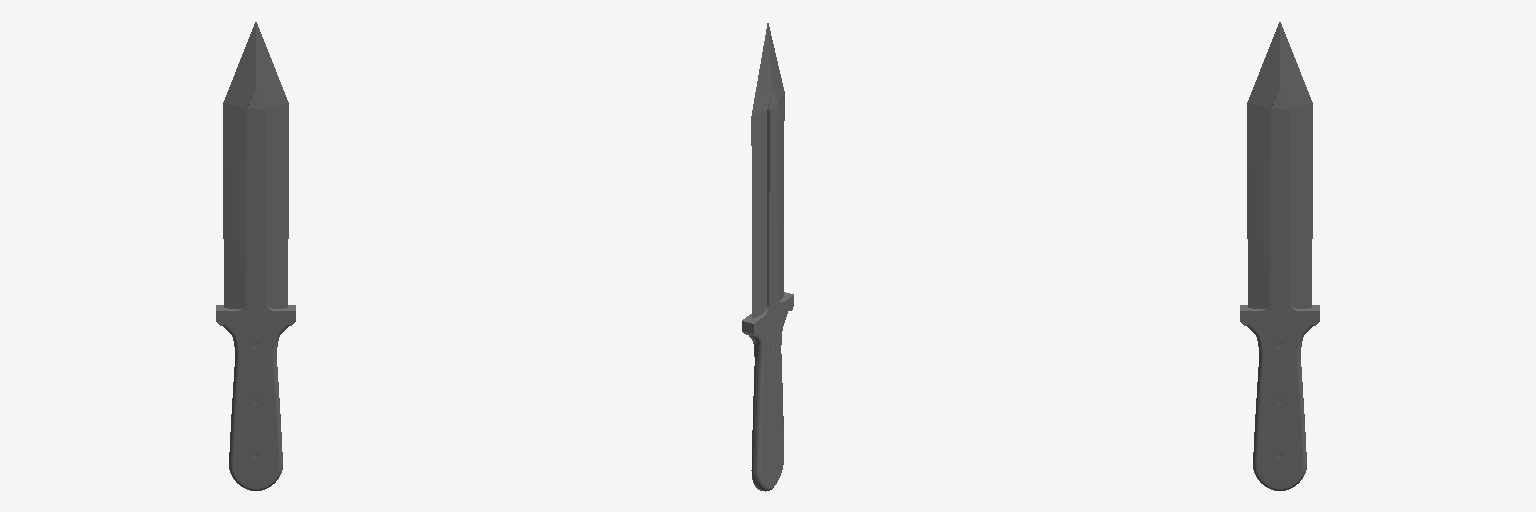
robot.urdf — object:
<?xml version="1.0"?>
<robot name="object">
  <link name="object">
    <visual>
      <origin xyz="0 0 0"/>
      <geometry>
        <mesh
          filename="../../mesh/oakink_virtual/knife_s123.stl" />
      </geometry>
      <material name="mat">
        <color rgba="0.5 0.5 0.5 1"/>
      </material>
    </visual>

    <collision>
      <origin xyz="0 0 0"/>
      <geometry>
        <mesh
          filename="../../mesh/oakink_virtual/knife_s123.stl" />
      </geometry>
    </collision>
  </link>
</robot>

--- Render facts (derived) ---
3 views of the same robot in one strip: view 1: azimuth 90°, elevation 25°; view 2: azimuth 150°, elevation 25°; view 3: azimuth 270°, elevation 25° (orthographic).
Model object with 1 links and 0 joints (none), rooted at object, posed all joints at 0.
Visible links, largest first — view 1: object; view 2: object; view 3: object.
Boxes of the visible links, box(x1,y1,x2,y2) form: object: box(216, 22, 295, 490); object: box(742, 23, 793, 491); object: box(1240, 22, 1319, 490).
Bounding box of the posed robot: 0.0064 × 0.0354 × 0.228 m (x, y, z).
1 mesh visuals loaded from 1 distinct referenced files (1 binary STL).